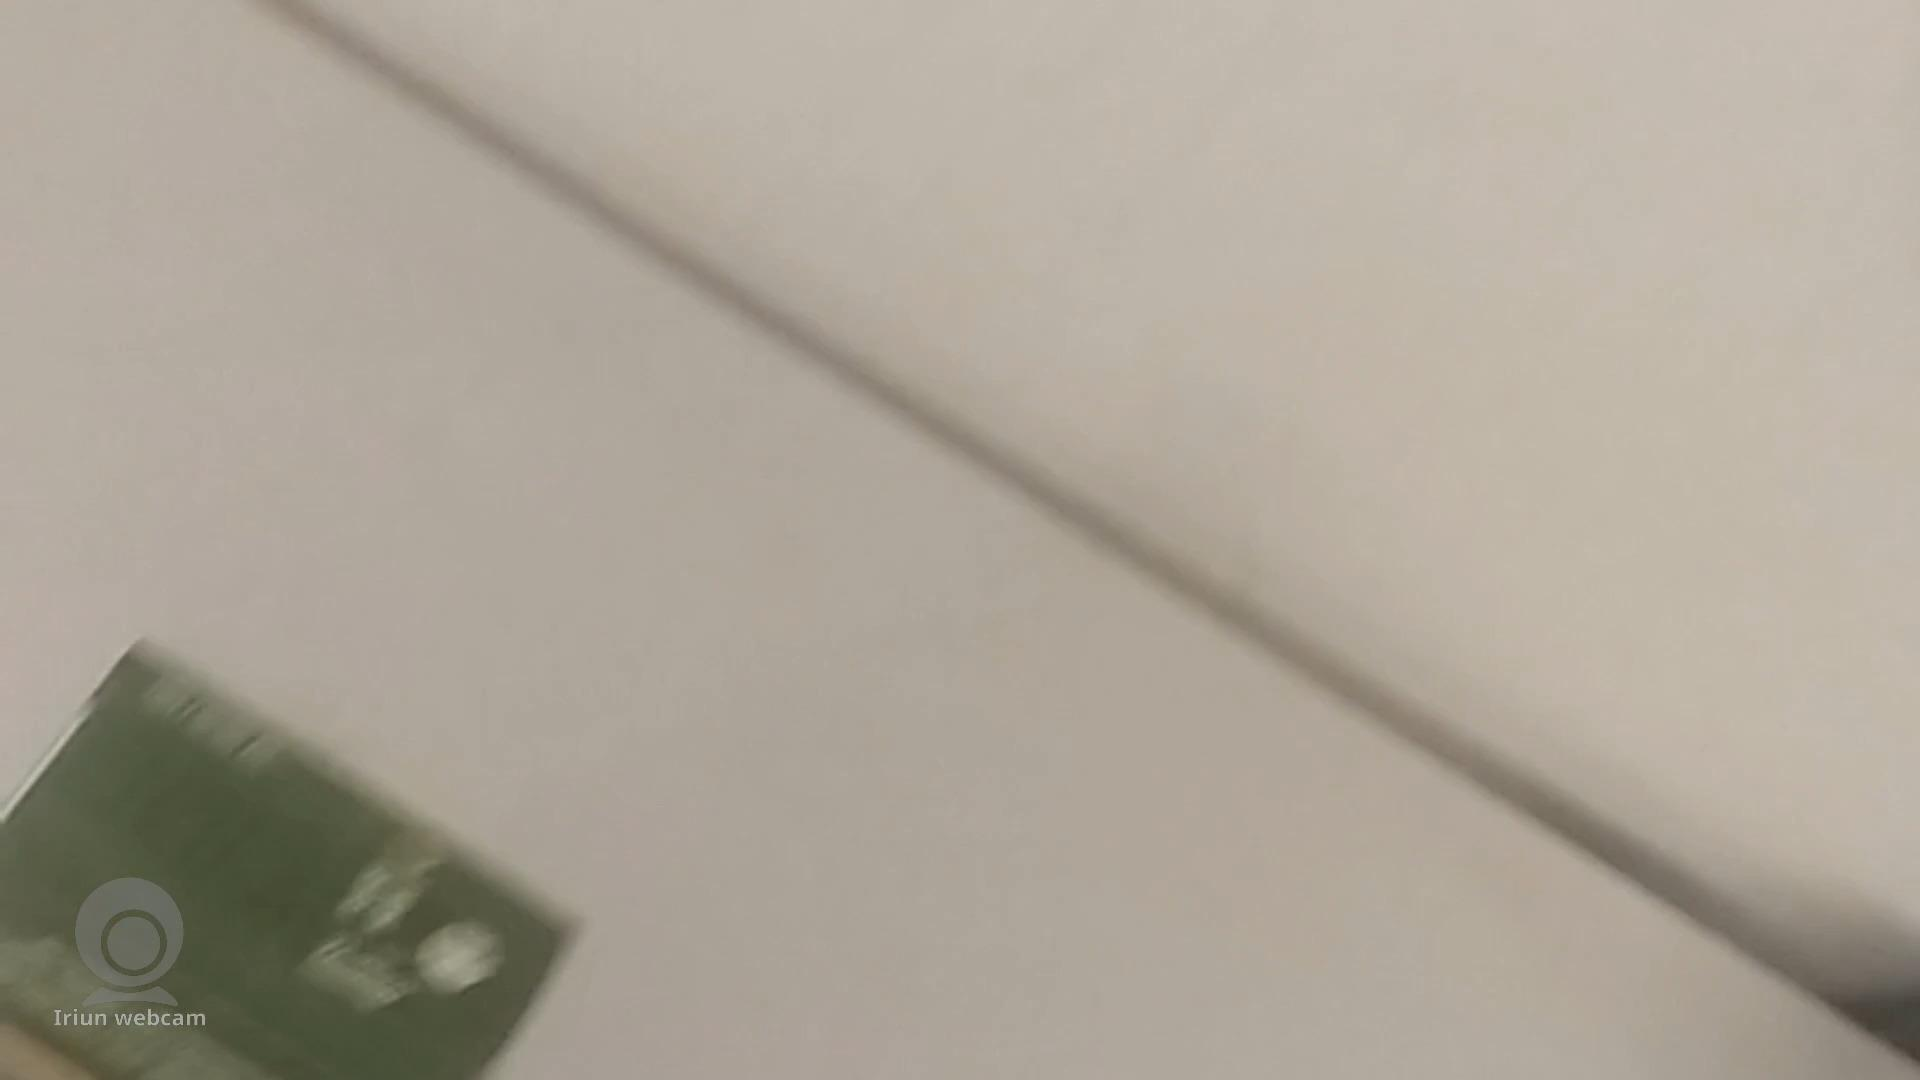coco: (0, 630, 608, 1080)
